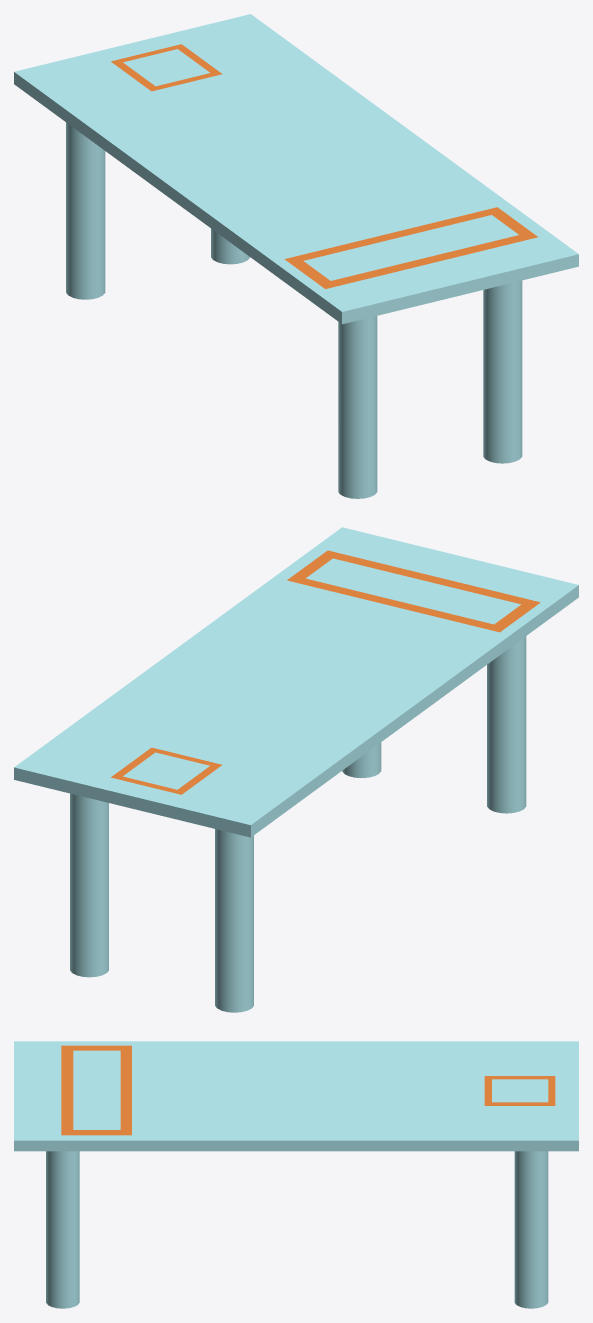
Rendered from Table_01.FBX.
3 views of the same model, one above another, from view 1: azimuth 30°, elevation 25°; view 2: azimuth 150°, elevation 25°; view 3: azimuth 270°, elevation 25° (orthographic). The views are drawn at different scales.
Parts seen in each view (by area): view 1: Box001, Cylinder004, Cylinder005, Cylinder006, Plane003, Plane002, Plane004, Plane001, Cylinder007; view 2: Box001, Cylinder006, Cylinder007, Cylinder004, Plane003, Plane002, Plane004, Plane001, Cylinder005; view 3: Box001, Cylinder007, Cylinder005, Plane003, Plane002, Plane004, Plane001.
Part boxes in pixels (left/top/right/bottom): Box001: left=14, top=14, right=578, bottom=324; Cylinder004: left=338, top=316, right=377, bottom=498; Cylinder005: left=483, top=280, right=522, bottom=463; Cylinder006: left=66, top=122, right=105, bottom=299; Plane003: left=304, top=215, right=518, bottom=280; Plane002: left=284, top=207, right=537, bottom=288; Plane004: left=123, top=49, right=209, bottom=86; Plane001: left=111, top=44, right=222, bottom=91; Cylinder007: left=211, top=228, right=249, bottom=264; Box001: left=14, top=527, right=578, bottom=837; Cylinder006: left=215, top=829, right=253, bottom=1012; Cylinder007: left=70, top=793, right=108, bottom=977; Cylinder004: left=487, top=636, right=526, bottom=813; Plane003: left=306, top=558, right=520, bottom=624; Plane002: left=287, top=550, right=540, bottom=632; Plane004: left=123, top=752, right=209, bottom=789; Plane001: left=111, top=747, right=222, bottom=794; Cylinder005: left=342, top=742, right=381, bottom=778; Box001: left=14, top=1041, right=578, bottom=1151; Cylinder007: left=514, top=1151, right=548, bottom=1308; Cylinder005: left=46, top=1151, right=79, bottom=1308; Plane003: left=73, top=1050, right=120, bottom=1129; Plane002: left=61, top=1045, right=131, bottom=1135; Plane004: left=492, top=1079, right=548, bottom=1102; Plane001: left=484, top=1076, right=555, bottom=1105.
Bounding box in the file's own units: 50 × 42.42 × 120.
